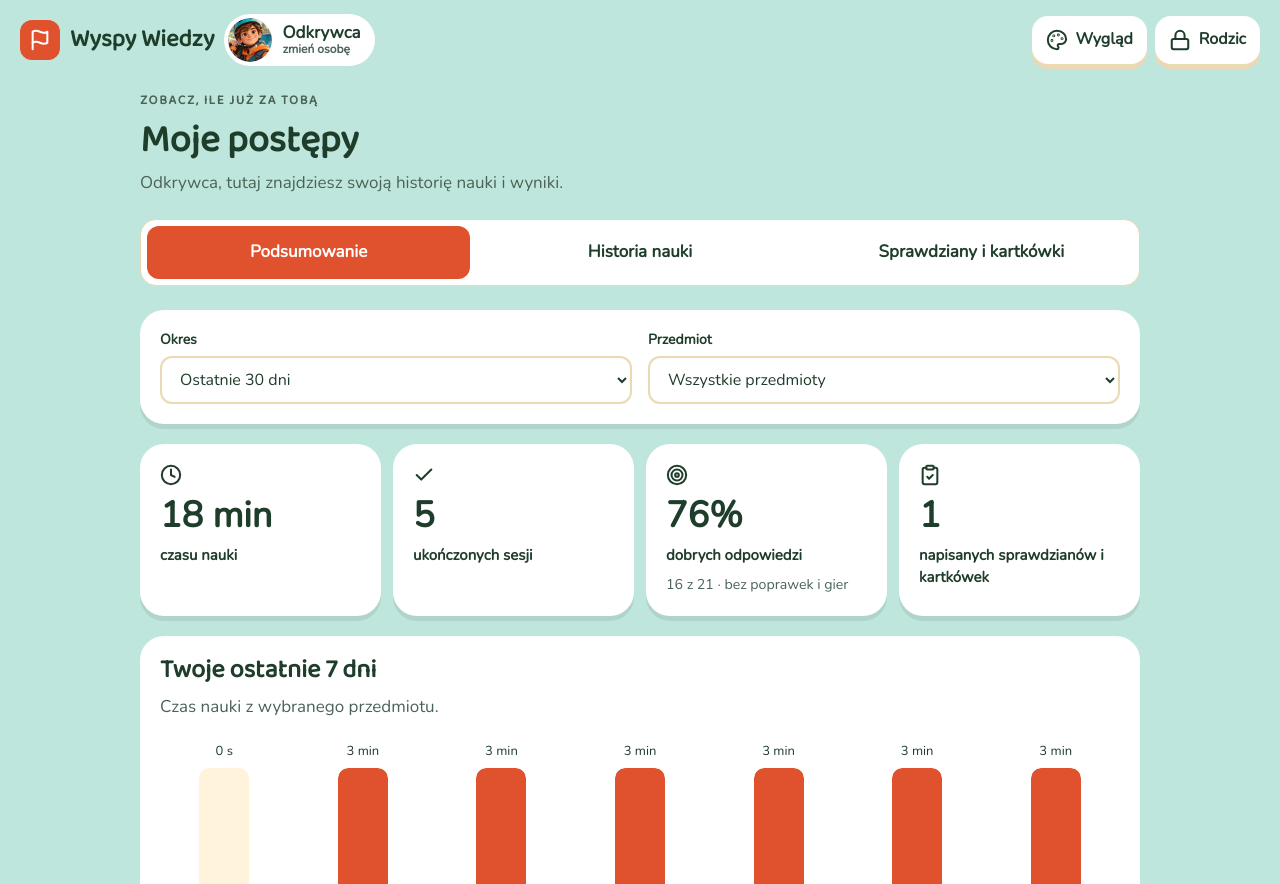
historia i wejście rodzica › historia nie pokazuje wyników drugiego dziecka
Click the tab "Historia nauki".
click(640, 252)  # box x1=478 y1=226 x2=802 y2=279
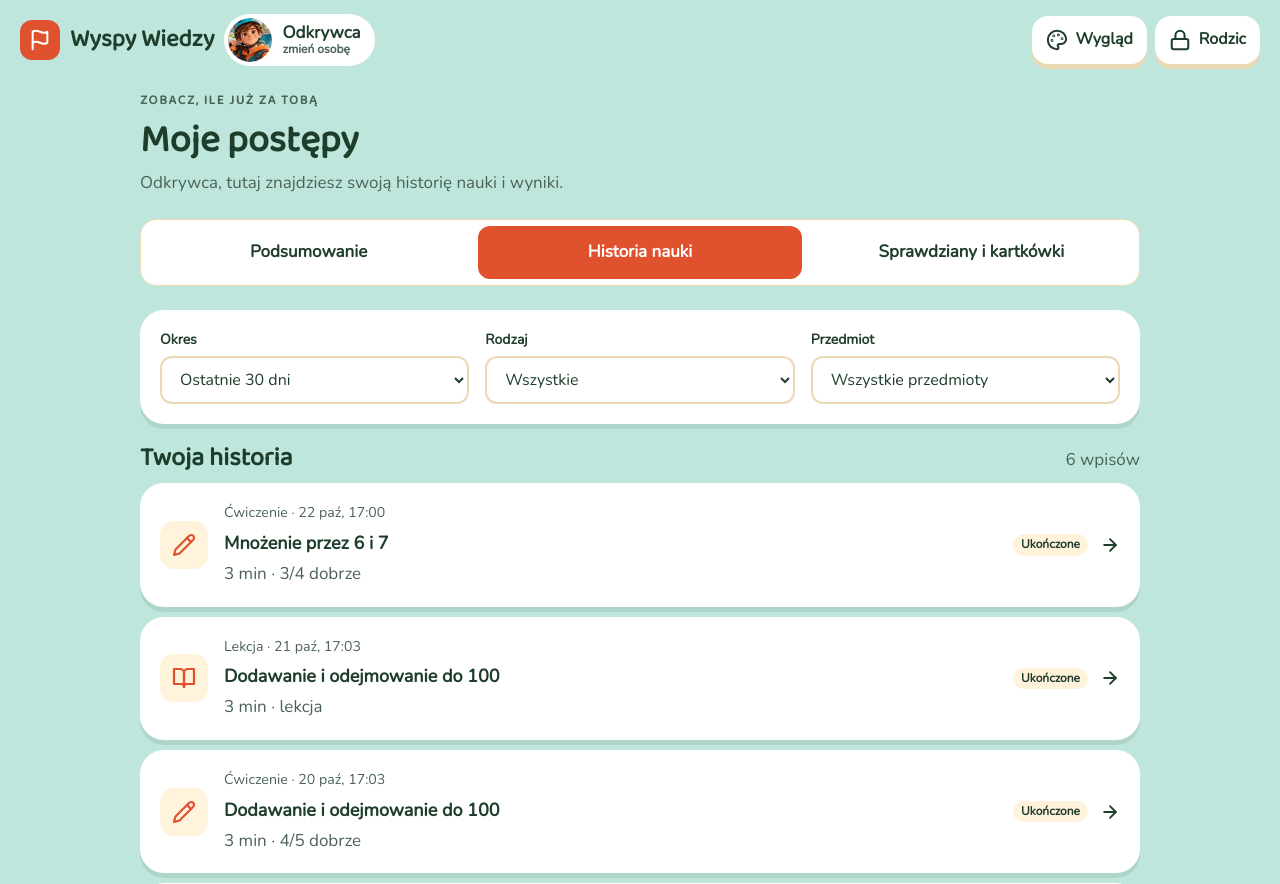
Check: the number of buttons with class "history-entry" is 6
